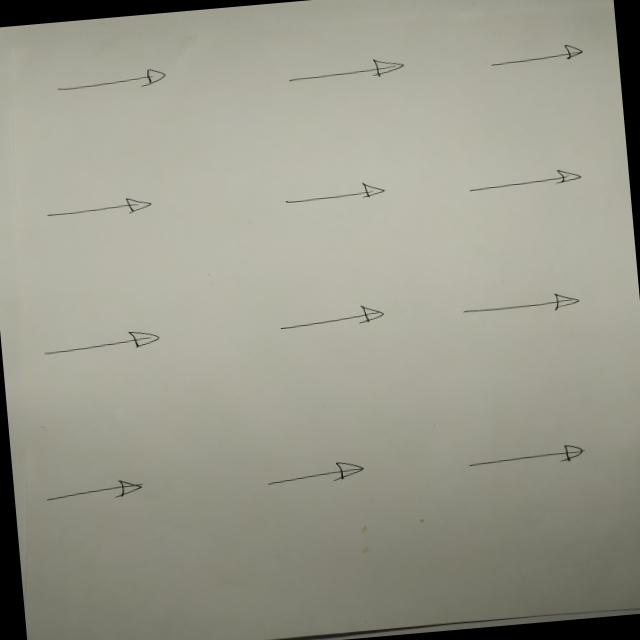arrow_line_right: (268, 48, 424, 94), (264, 170, 397, 217), (35, 472, 173, 516), (34, 322, 172, 364), (28, 189, 168, 230), (45, 61, 176, 104), (458, 162, 588, 205), (456, 438, 597, 476), (452, 286, 590, 322), (247, 455, 370, 495), (479, 32, 589, 76), (264, 300, 397, 336)
